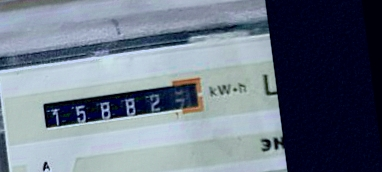1: (50, 106, 61, 125)
2: (147, 91, 162, 113)
5: (71, 103, 88, 123)
7: (172, 95, 186, 108)
8: (122, 94, 137, 117), (98, 99, 112, 120)
screen: (36, 74, 209, 136)
